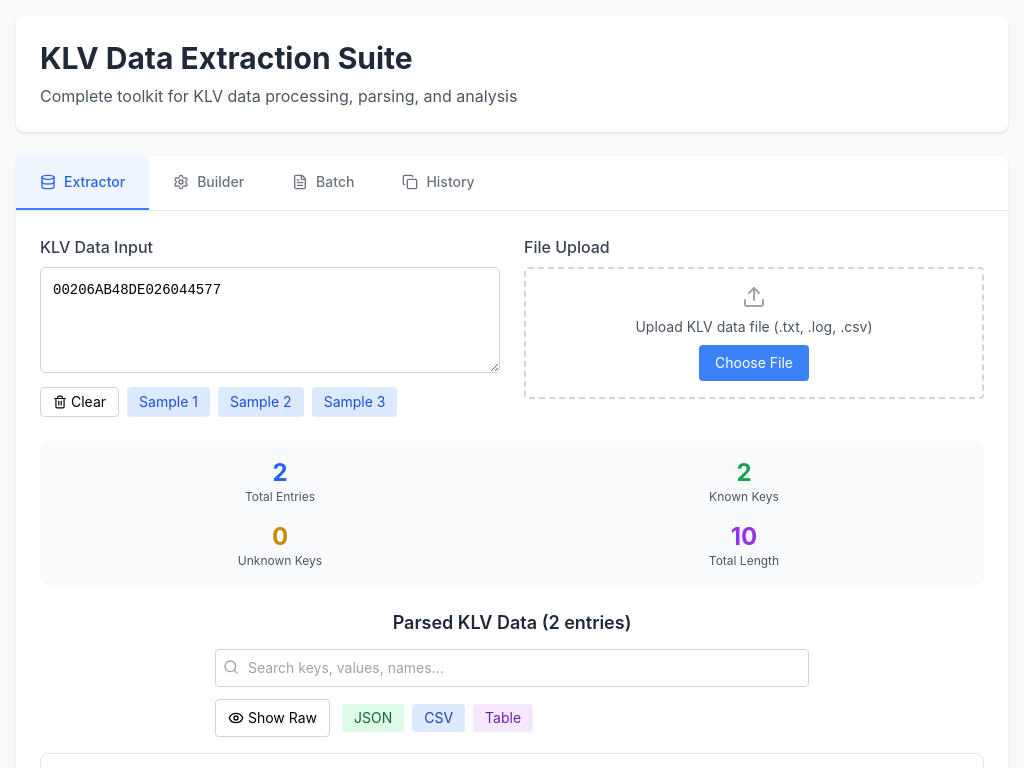
Test case: App Integration Tests › Sample Data Loading › should load sample data when sample buttons are clicked
Click the button "Sample 2" at (261, 402), box x1=218 y1=387 x2=304 y2=417
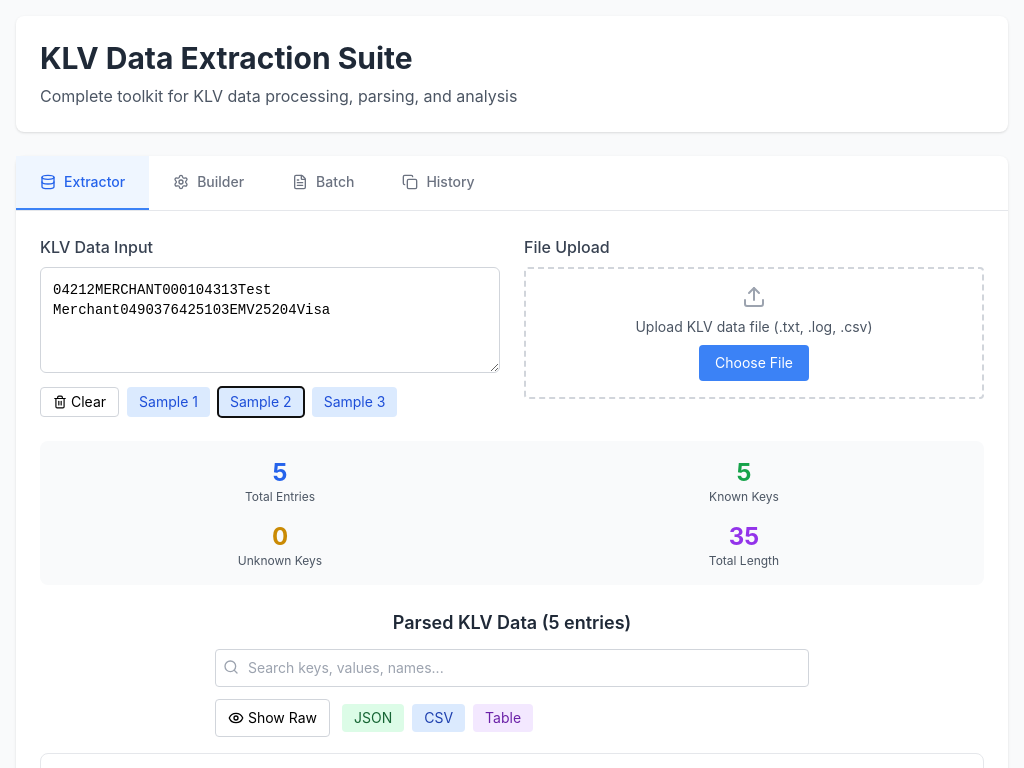
Expected: the text box with placeholder "Enter KLV data (e.g., 00206AB48DE026044577)..." holds "04212MERCHANT000104313Test Merchant0490376425103EMV25204Visa", x1=40 y1=267 x2=500 y2=373
